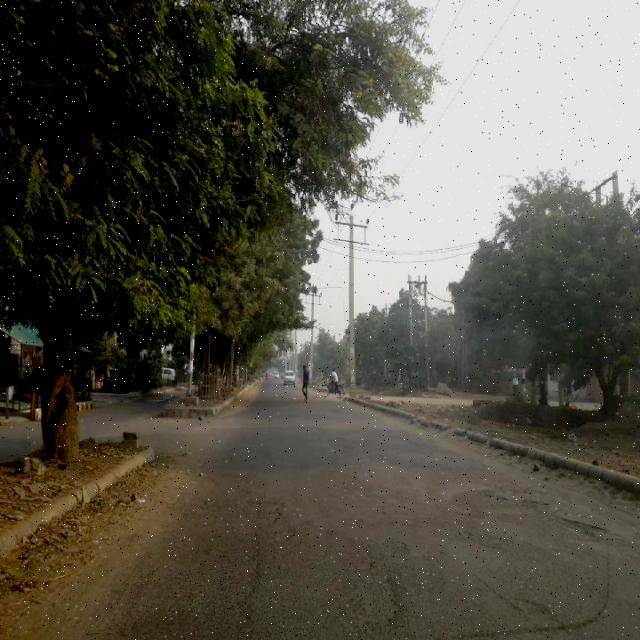D00: (235, 491, 292, 626)
D40: (551, 506, 634, 560), (494, 584, 577, 638)
